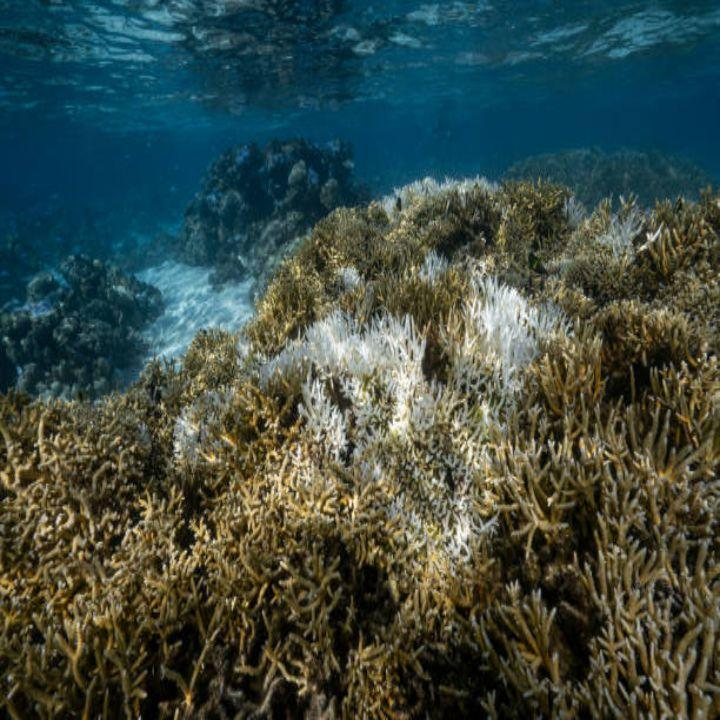Bleached disease: (232, 304, 562, 530)
Healthy Coral: (5, 407, 212, 706), (583, 289, 712, 715)
